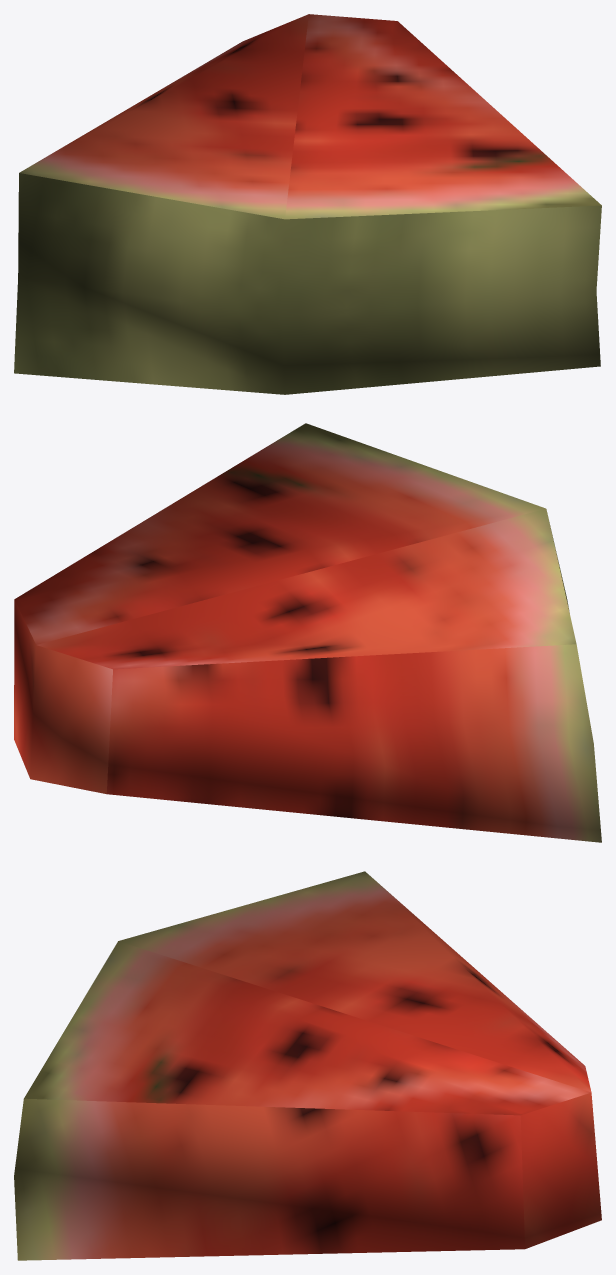
The model's file is Piece melon A.glb.
3 views of the same model, one above another, from view 1: azimuth 30°, elevation 25°; view 2: azimuth 150°, elevation 25°; view 3: azimuth 270°, elevation 25° (orthographic). The views are drawn at different scales.
Parts seen in each view (by area): view 1: Piece melon A; view 2: Piece melon A; view 3: Piece melon A.
Boxes of the visible parts, x1=… form: Piece melon A: x1=14, y1=14, x2=601, y2=394; Piece melon A: x1=14, y1=423, x2=601, y2=842; Piece melon A: x1=14, y1=871, x2=601, y2=1260.
Bounding box in the file's own units: 0.2837 × 0.1128 × 0.2971.
Materials: 1 (1 with a texture image).
